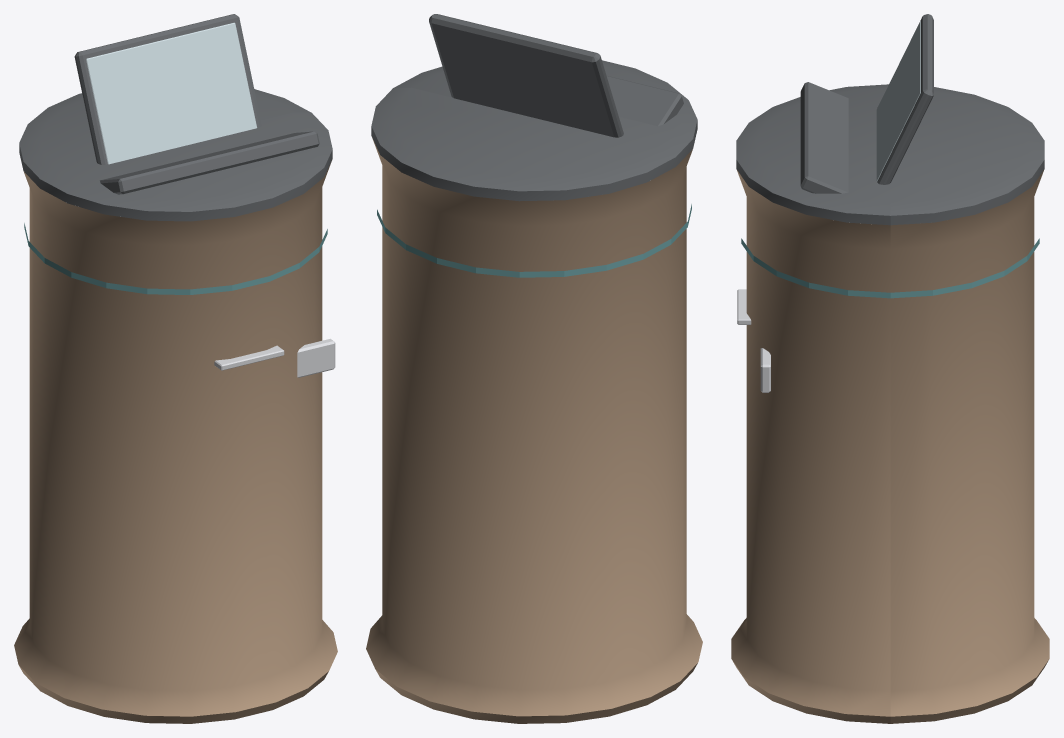
The model's file is hotel-and-resort-operations-check-in-pod-d5fd126f__25855.glb.
The picture shows the model from 3 angles, left to right: view 1: azimuth 30°, elevation 25°; view 2: azimuth 150°, elevation 25°; view 3: azimuth 270°, elevation 25°; orthographic projection. The views are drawn at different scales.
Parts seen in each view (by area): view 1: check-in-pod; view 2: check-in-pod; view 3: check-in-pod.
Boxes of the visible parts, left/top/right/bottom form: check-in-pod: left=14, top=14, right=337, bottom=723; check-in-pod: left=366, top=14, right=702, bottom=723; check-in-pod: left=731, top=14, right=1049, bottom=723.
Size of the model in its own units: 0.62 by 1.29 by 0.6137.
